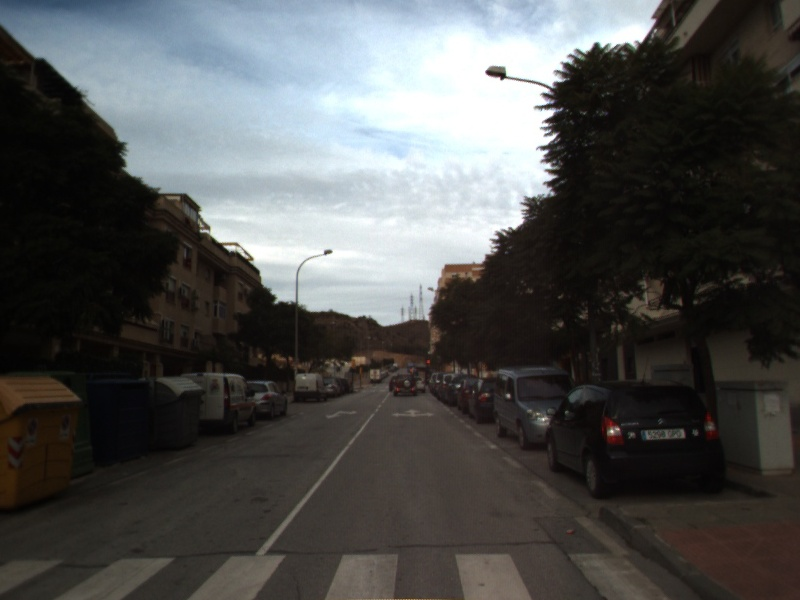STRAIGHT_LEFT_RIGHT: (390, 406, 436, 420)
